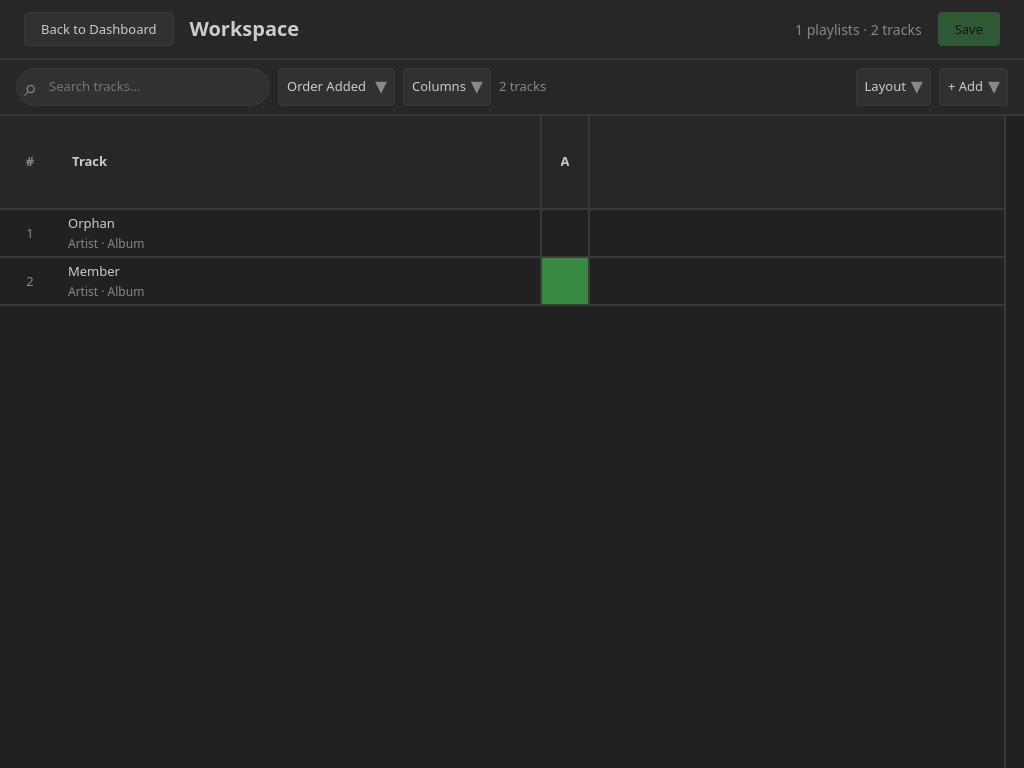
Scenario: WorkspaceView › most-playlists sort › sorts a track in no playlist last
Select "Most Playlists" in the 1st dropdown with class "dropdown": (336, 87) [278,68,395,106]
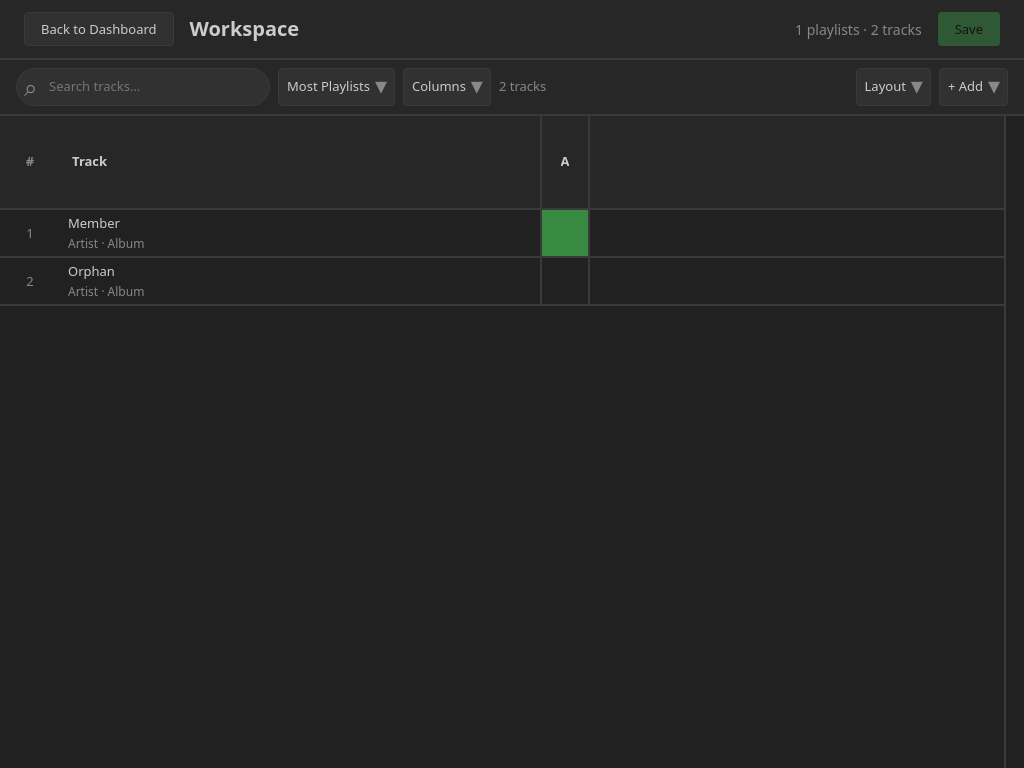
Now the elements with class "track-row__title" read "Member", "Orphan", in this order, box [68,214,120,232]; [68,262,115,280]
